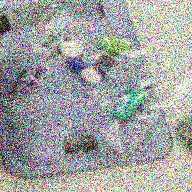러키펜정: (60, 41, 83, 58)
씨엠지세파클러캡슐: (66, 58, 103, 85)
에르도캡슐: (109, 88, 150, 122)
휴티렌정: (98, 37, 132, 55)
